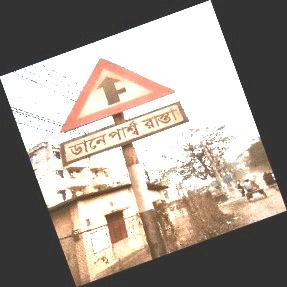Side-road-right: (58, 58, 186, 168)
